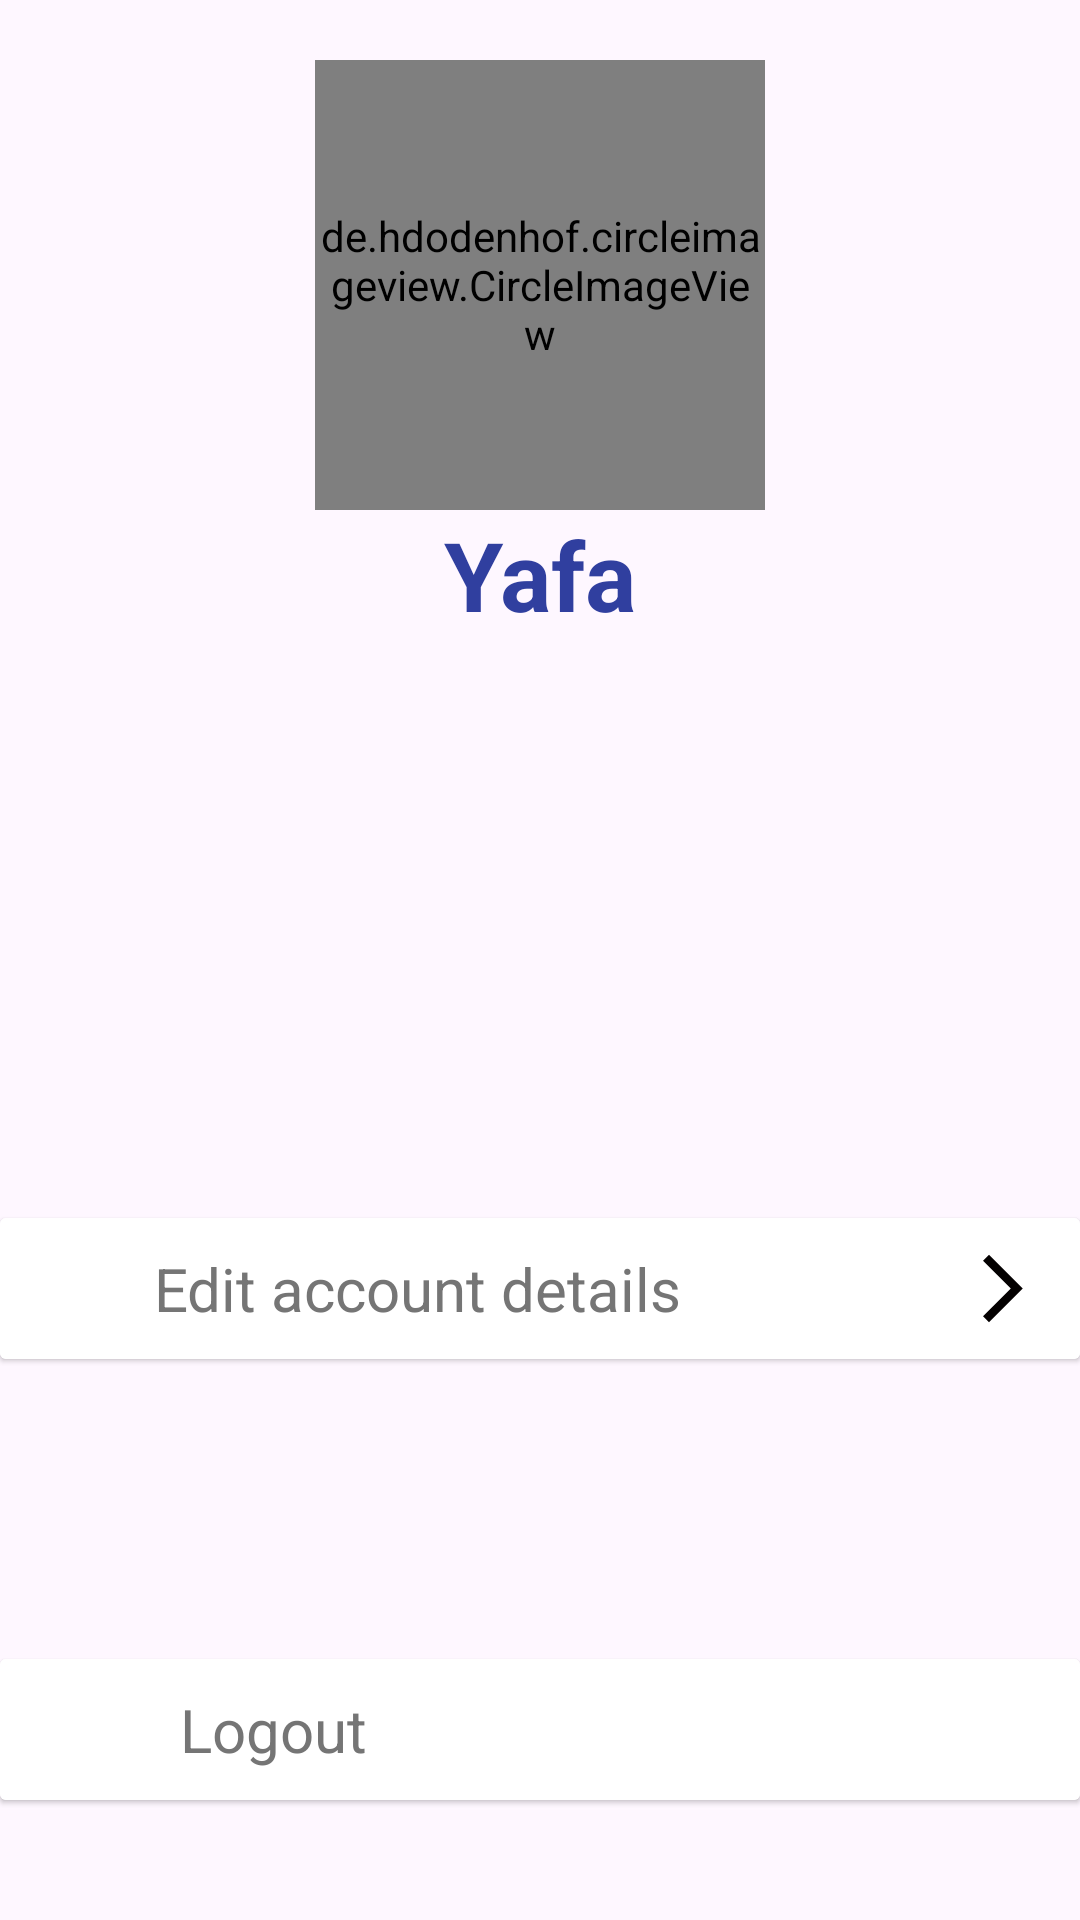

Screen size 1080w x 1920h. Icon name, then its box in pixels as (x1, y1, x2, y2):
arrow forward: (983, 1255, 1023, 1322)
